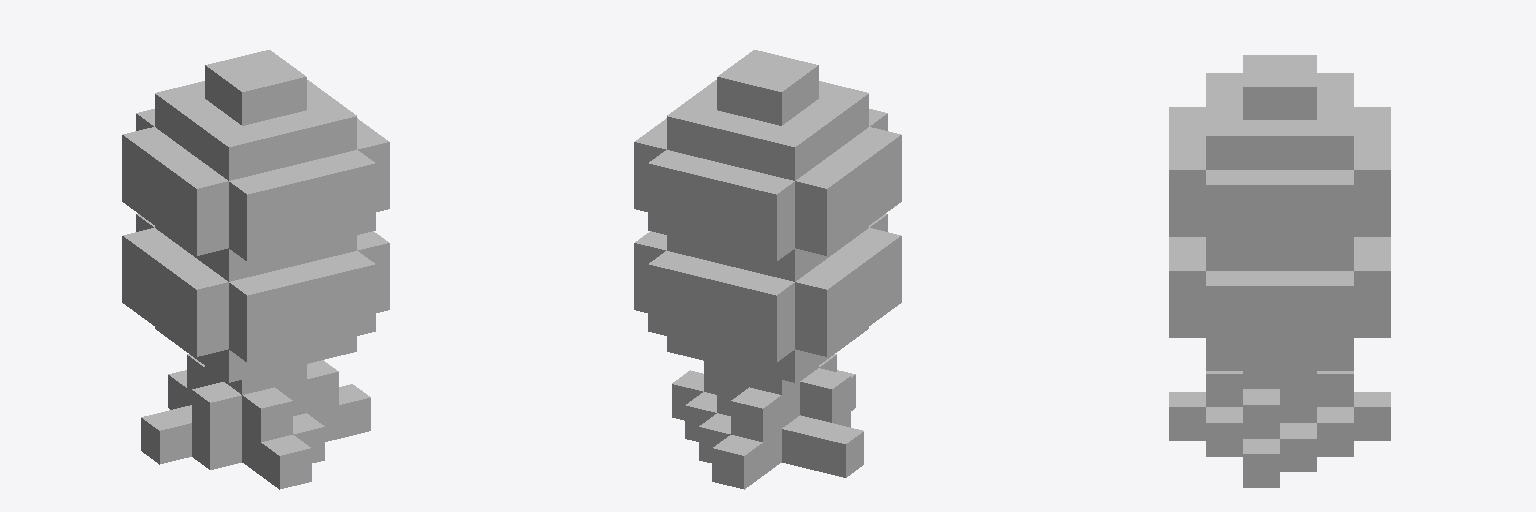
File: Bush_Tall.obj
The picture shows the model from 3 angles: view 1: azimuth 30°, elevation 25°; view 2: azimuth 150°, elevation 25°; view 3: azimuth 270°, elevation 25°; orthographic projection.
Parts seen in each view (by area): view 1: Bush_Tall; view 2: Bush_Tall; view 3: Bush_Tall.
Boxes of the visible parts, <box> form: Bush_Tall: <box>122,50,389,489</box>; Bush_Tall: <box>634,50,901,489</box>; Bush_Tall: <box>1169,55,1390,487</box>.
Bounding box in the file's own units: 6 × 11 × 6.